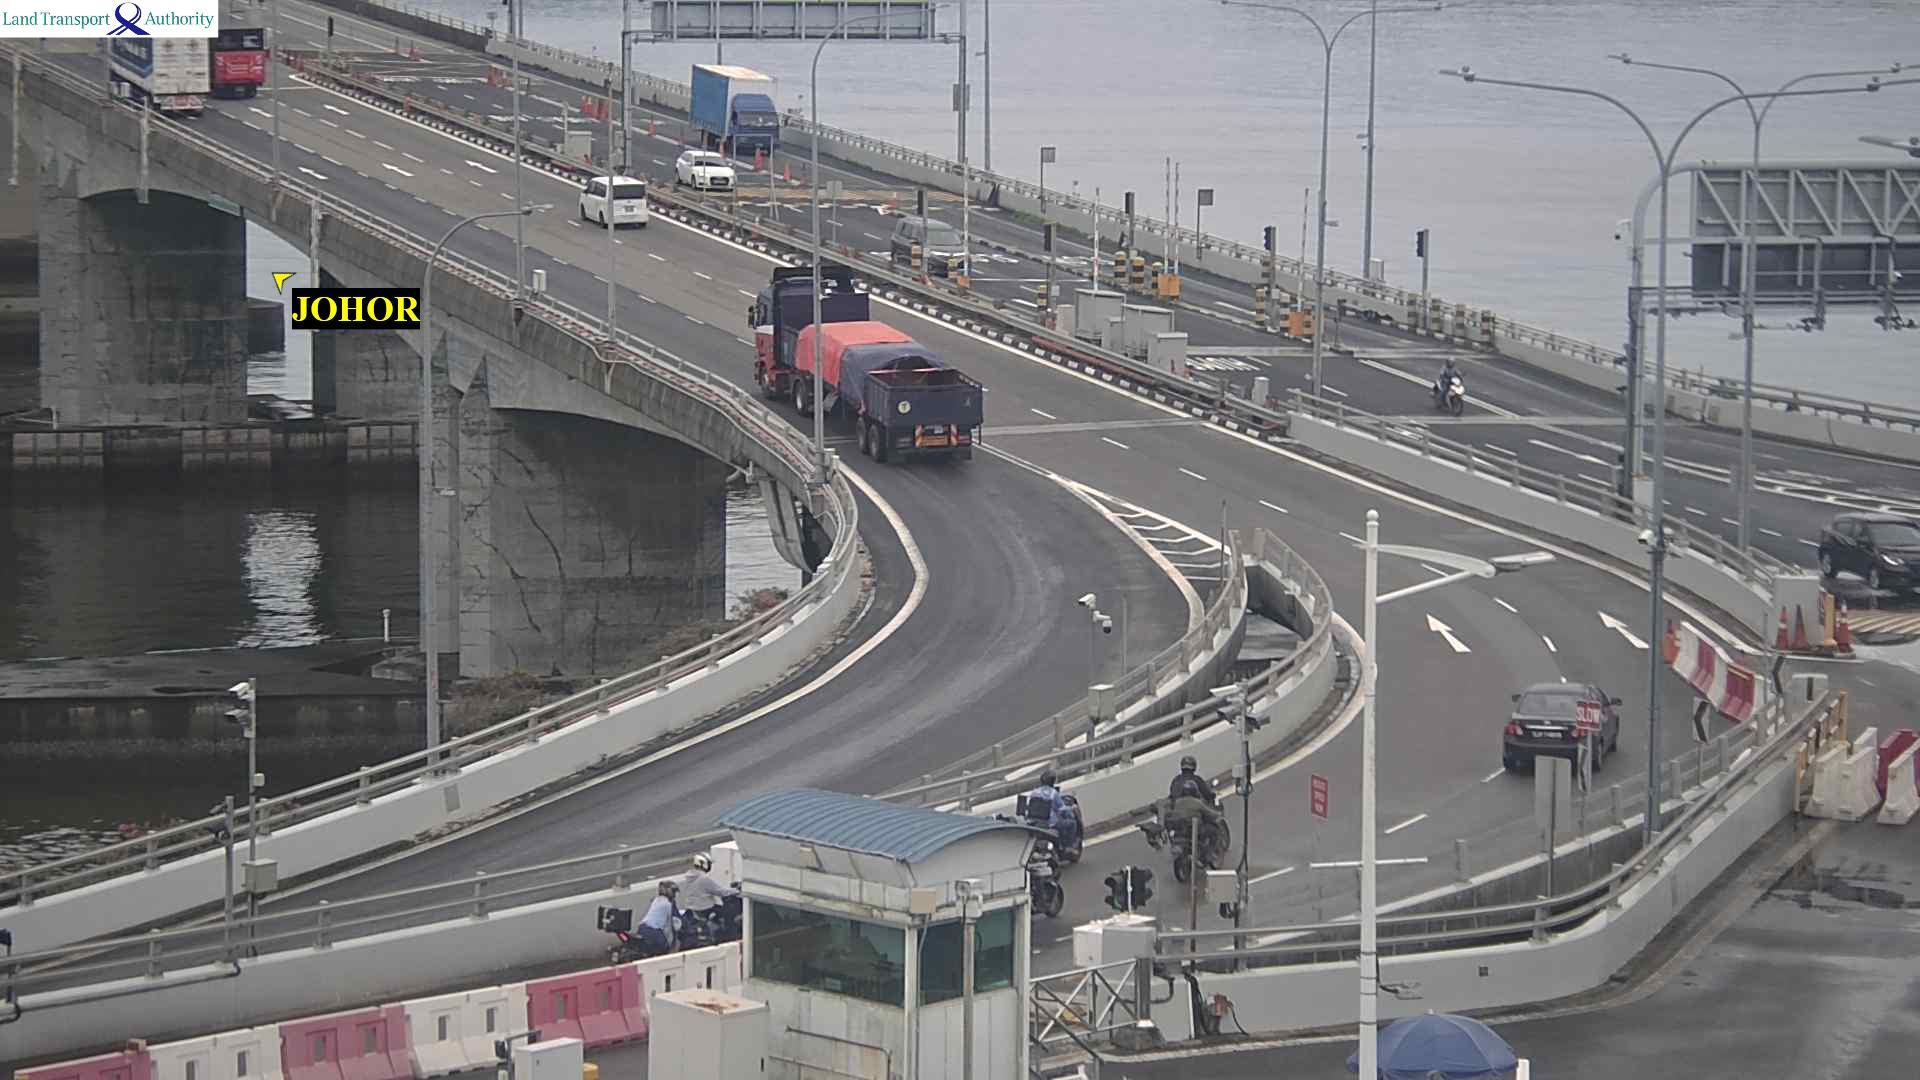vehicle-secondlink-johor: (755, 263, 973, 466), (1500, 678, 1620, 768), (1152, 757, 1228, 873), (998, 782, 1089, 875), (105, 39, 208, 115), (599, 884, 687, 959), (682, 861, 743, 937), (579, 175, 651, 230), (210, 26, 265, 96)
vehicle-secondlink-singapore: (1824, 510, 1920, 608), (691, 65, 779, 154), (892, 217, 972, 275), (677, 150, 735, 189), (1432, 355, 1465, 412)
